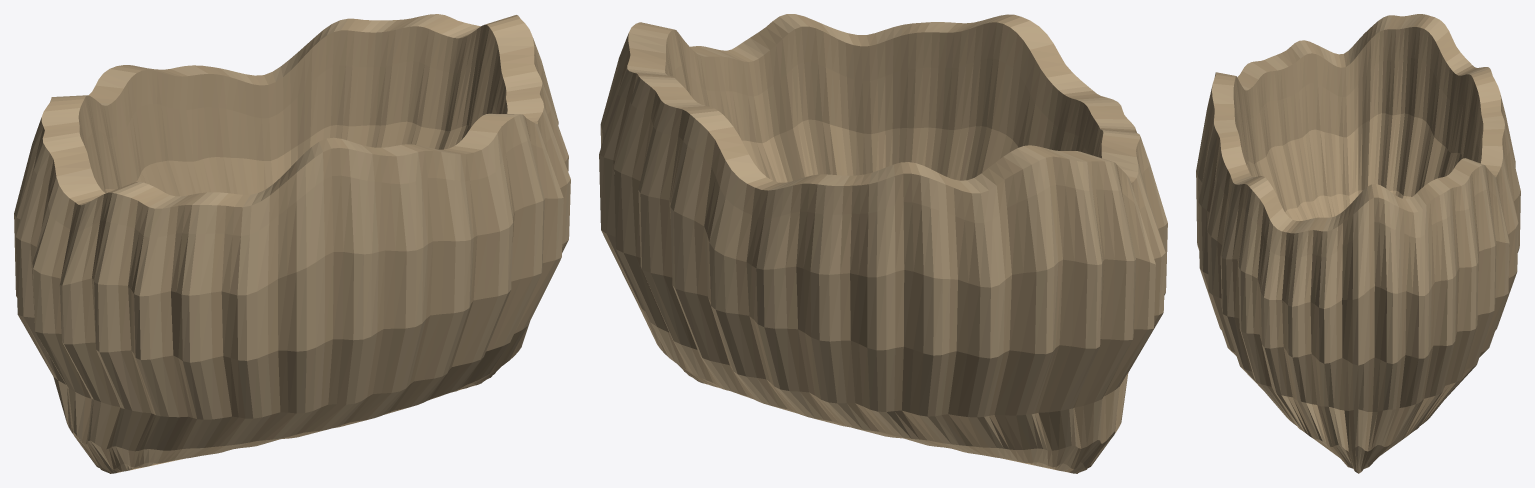
File: reexport.glb
3 views of the same model, side by side, from view 1: azimuth 30°, elevation 25°; view 2: azimuth 150°, elevation 25°; view 3: azimuth 270°, elevation 25° (orthographic). The views are drawn at different scales.
Parts seen in each view (by area): view 1: incomplete_elliptical_ernietta_basal_fossil_sack_integral_pa; view 2: incomplete_elliptical_ernietta_basal_fossil_sack_integral_pa; view 3: incomplete_elliptical_ernietta_basal_fossil_sack_integral_pa.
Boxes of the visible parts, bbox=[...] form: incomplete_elliptical_ernietta_basal_fossil_sack_integral_pa: bbox=[14, 14, 570, 473]; incomplete_elliptical_ernietta_basal_fossil_sack_integral_pa: bbox=[599, 14, 1167, 473]; incomplete_elliptical_ernietta_basal_fossil_sack_integral_pa: bbox=[1196, 14, 1520, 473].
Bounding box in the file's own units: 0.0848 × 0.0554 × 0.0531.
